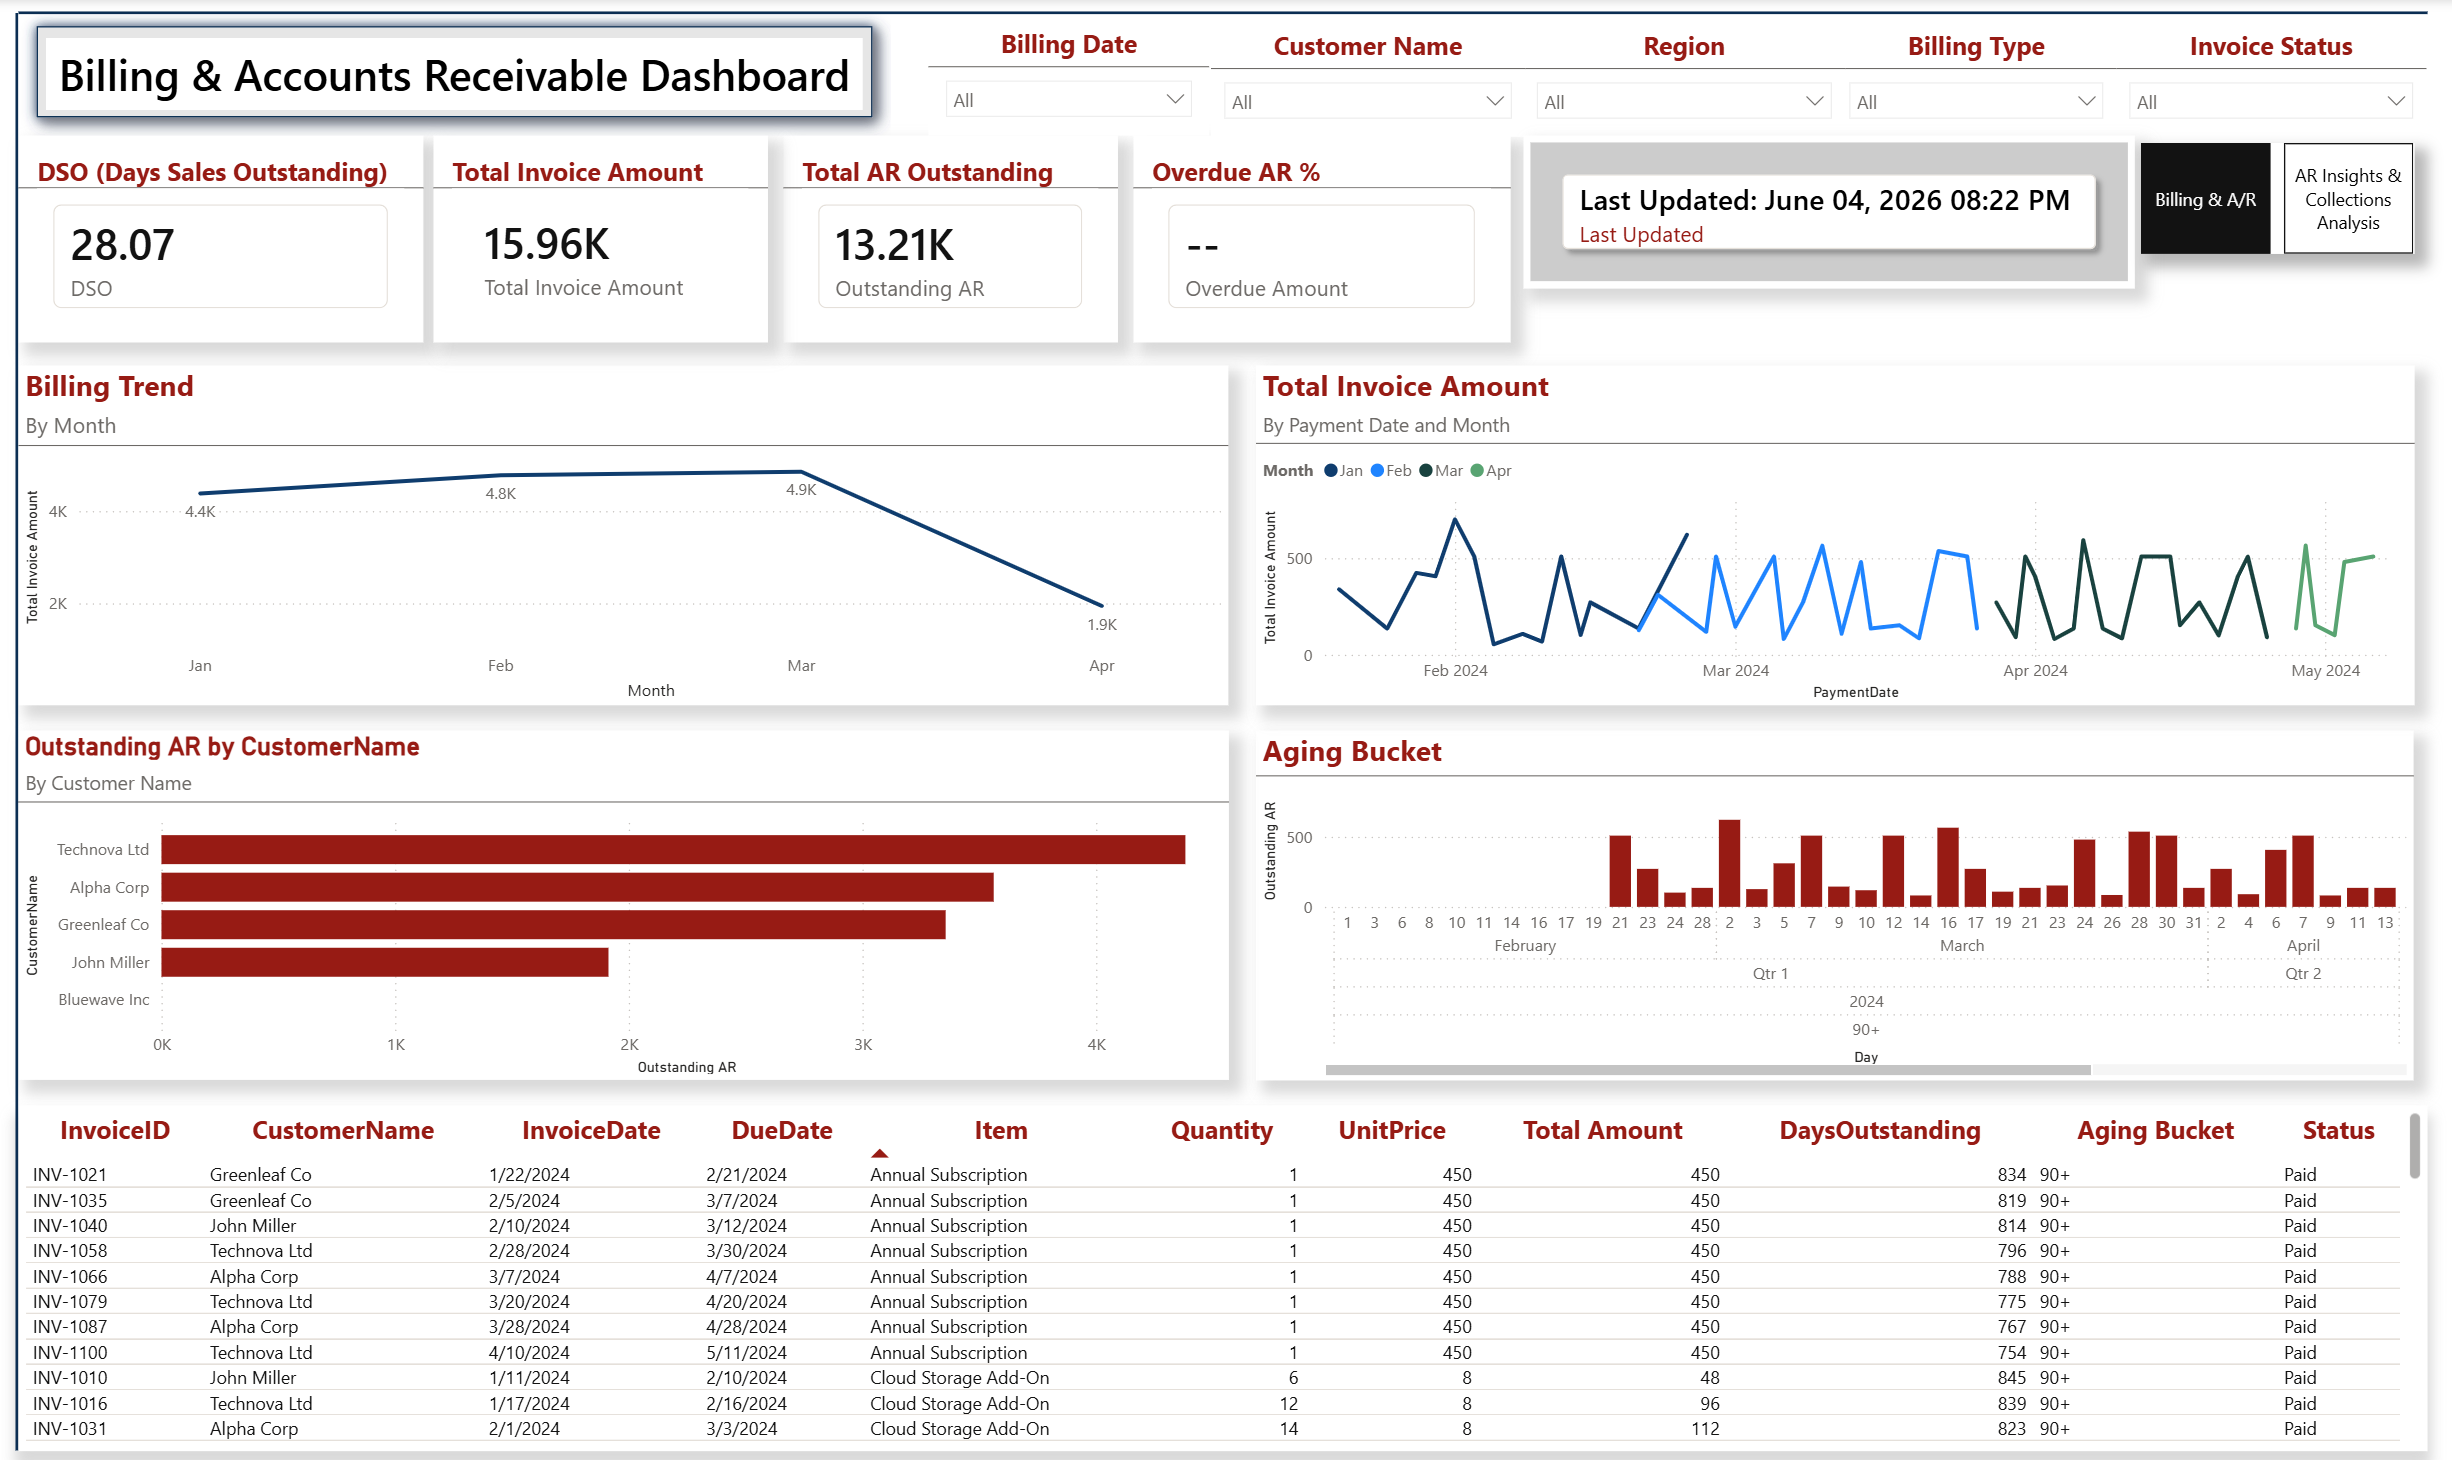

The page's visual inventory and layout, read from the dashboard file:
{"tool":"powerbi","page":{"name":"Billing & A/R","canvas":[1850,1100],"ordinal":0},"visuals":[{"type":"cardVisual","title":"Total AR Outstanding","fields":{"Data":["_KPI's.Outstanding AR"]},"box":[590.2,103.9,250.8,155.2],"z":0},{"type":"cardVisual","title":"DSO (Days Sales Outstanding)","fields":{"Data":["_KPI's.DSO"]},"box":[16.6,103.9,303.4,155.2],"z":1000},{"type":"cardVisual","title":"Overdue AR %","fields":{"Data":["_KPI's.Overdue Amount"]},"box":[852,103.9,282.6,155.2],"z":2000},{"type":"slicer","title":"Billing Date","fields":{"Values":["Invoices_Fact.InvoiceDate"]},"box":[699.6,13.9,210.6,90.1],"z":3000},{"type":"slicer","title":"Invoice Status","fields":{"Values":["Invoices_Fact.Status"]},"box":[1590.4,22.2,232.7,81.7],"z":4000},{"type":"slicer","title":"Billing Type","fields":{"Values":["Invoices_Fact.InvoiceID"]},"box":[1379.8,22.2,210.6,81.7],"z":5000},{"type":"slicer","title":"Region","fields":{"Values":["Customers_Dim.Province"]},"box":[1145.7,22.2,241.1,81.7],"z":6000},{"type":"slicer","title":"Customer Name","fields":{"Values":["Invoices_Fact.CustomerName"]},"box":[910.2,22.2,235.5,81.7],"z":7000},{"type":"lineChart","title":"Billing Trend","fields":{"Category":["DimDate.Month"],"Y":["_KPI's.Total Invoice Amount"]},"box":[16.9,275.6,907.3,254.9],"z":8000},{"type":"clusteredColumnChart","title":"Aging Bucket","fields":{"Category":["Invoices_Fact.Aging Bucket","Invoices_Fact.DueDate.Variation.Date Hierarchy.Year","Invoices_Fact.DueDate.Variation.Date Hierarchy.Quarter","Invoices_Fact.DueDate.Variation.Date Hierarchy.Month","Invoices_Fact.DueDate.Variation.Date Hierarchy.Day"],"Y":["_KPI's.Outstanding AR"]},"box":[944.8,549.3,867.9,262.4],"z":9000},{"type":"barChart","fields":{"Y":["_KPI's.Outstanding AR"],"Category":["Invoices_Fact.CustomerName"]},"box":[16.6,550,907.4,261.8],"z":10000},{"type":"lineChart","title":"Total Invoice Amount ","fields":{"Category":["Invoices_Fact.PaymentDate"],"Series":["DimDate.Month"],"Y":["_KPI's.Total Invoice Amount"]},"box":[944.8,275.7,868.6,254.9],"z":11000},{"type":"tableEx","fields":{"Values":["Invoices_Fact.InvoiceID","Invoices_Fact.CustomerName","Invoices_Fact.InvoiceDate","Invoices_Fact.DueDate","Invoices_Fact.Item","Invoices_Fact.Quantity","Invoices_Fact.UnitPrice","Invoices_Fact.Total Amount","Invoices_Fact.DaysOutstanding","Invoices_Fact.Aging Bucket","Invoices_Fact.Status"]},"box":[16.6,829.8,1806.5,259.1],"z":12000},{"type":"cardVisual","title":"Total Invoice Amount","fields":{"Data":["_KPI's.Total Invoice Amount"]},"box":[328.3,103.9,250.8,155.2],"z":13000},{"type":"cardVisual","fields":{"Data":["_KPI's.Last Updated"]},"box":[1145.7,103.9,458.6,115],"z":14000},{"type":"pageNavigator","box":[1608.4,109.4,205,83.1],"z":15000},{"type":"shape","box":[16.6,0,1806.5,22.2],"z":16000},{"type":"shape","box":[9.7,11.1,12.5,1077.8],"z":17000},{"type":"shape","box":[16.6,8.3,653.9,95.6],"z":18000},{"type":"textbox","box":[37.4,29.1,612.3,54],"z":19000}]}

Visuals, with their boxes in screenshot pixels (x1, y1, x2, y2), scaled from the page's 1850x1100 canvas onto the 2452x1460 screenshot:
"Total AR Outstanding" cardVisual: x1=782 y1=138 x2=1115 y2=344
"DSO (Days Sales Outstanding)" cardVisual: x1=22 y1=138 x2=424 y2=344
"Overdue AR %" cardVisual: x1=1129 y1=138 x2=1504 y2=344
"Billing Date" slicer: x1=927 y1=18 x2=1206 y2=138
"Invoice Status" slicer: x1=2108 y1=29 x2=2416 y2=138
"Billing Type" slicer: x1=1829 y1=29 x2=2108 y2=138
"Region" slicer: x1=1519 y1=29 x2=1838 y2=138
"Customer Name" slicer: x1=1206 y1=29 x2=1519 y2=138
"Billing Trend" lineChart: x1=22 y1=366 x2=1225 y2=704
"Aging Bucket" clusteredColumnChart: x1=1252 y1=729 x2=2403 y2=1077
barChart - _KPI's.Outstanding AR x Invoices_Fact.CustomerName: x1=22 y1=730 x2=1225 y2=1077
"Total Invoice Amount " lineChart: x1=1252 y1=366 x2=2403 y2=704
tableEx - Invoices_Fact.InvoiceID x Invoices_Fact.CustomerName: x1=22 y1=1101 x2=2416 y2=1445
"Total Invoice Amount" cardVisual: x1=435 y1=138 x2=768 y2=344
cardVisual - _KPI's.Last Updated: x1=1519 y1=138 x2=2126 y2=291
pageNavigator: x1=2132 y1=145 x2=2403 y2=256
shape: x1=22 y1=0 x2=2416 y2=29
shape: x1=13 y1=15 x2=29 y2=1445
shape: x1=22 y1=11 x2=889 y2=138
textbox: x1=50 y1=39 x2=861 y2=110
